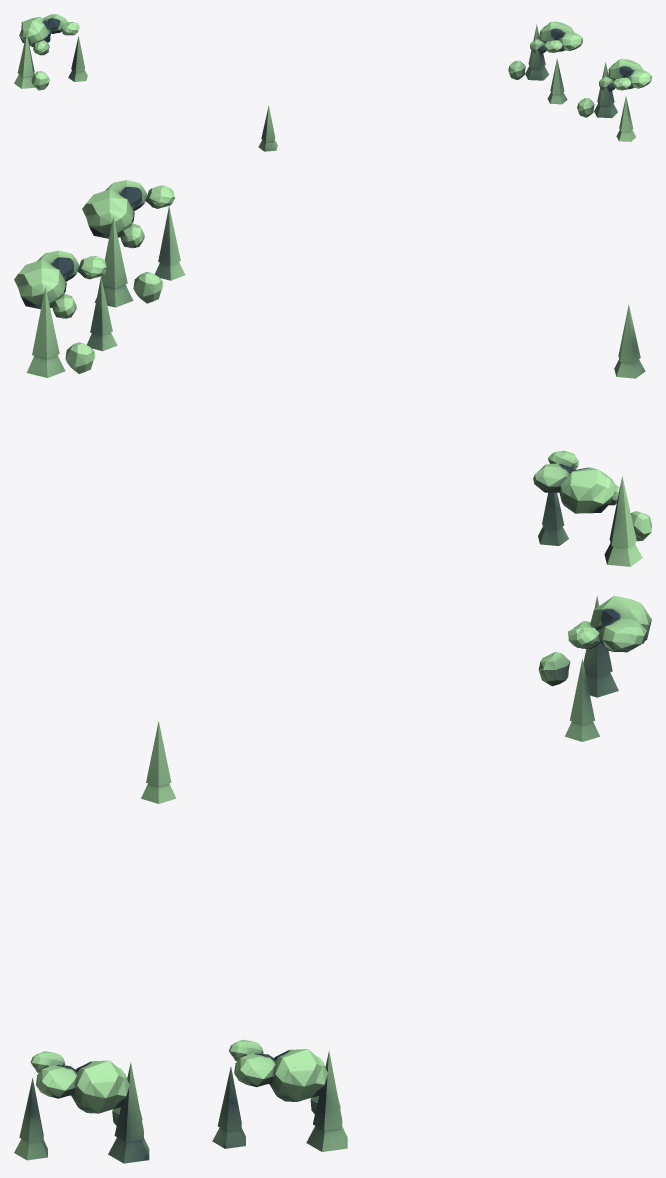
Rendered from Wood_01.FBX.
3 views of the same model, one above another, from view 1: azimuth 30°, elevation 25°; view 2: azimuth 150°, elevation 25°; view 3: azimuth 270°, elevation 25° (orthographic). The views are drawn at different scales.
Parts seen in each view (by area): view 1: Wood_01; view 2: Wood_01; view 3: Wood_01.
Part boxes in pixels (left/top/right/bottom): Wood_01: left=14, top=14, right=651, bottom=151; Wood_01: left=14, top=180, right=651, bottom=566; Wood_01: left=14, top=595, right=651, bottom=1163.
Bounding box in the file's own units: 30.37 × 6.15 × 19.47.
